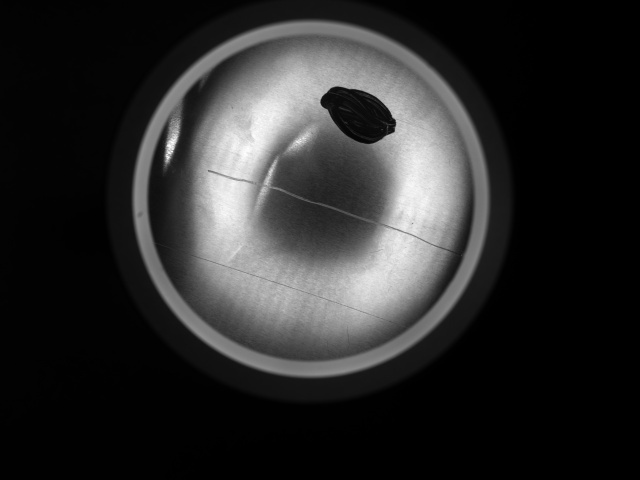ca_shang: (200, 162, 465, 257), (163, 241, 404, 325)
zang_wu: (318, 85, 398, 147)
